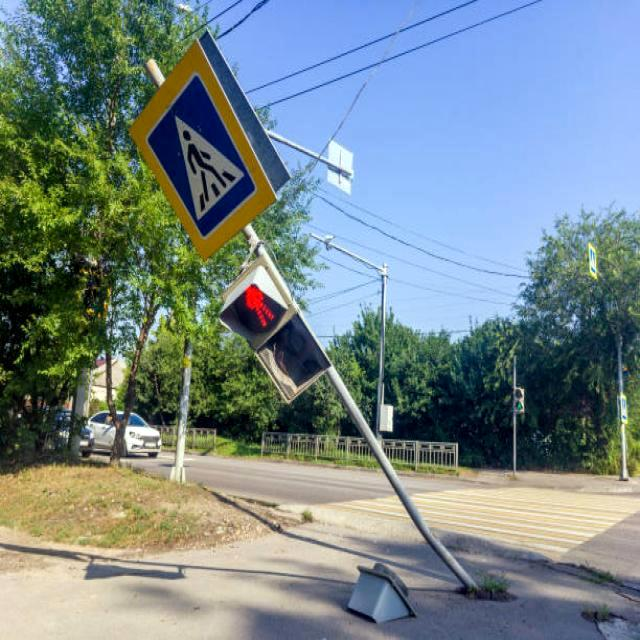Broken Pole: (111, 42, 534, 640)
